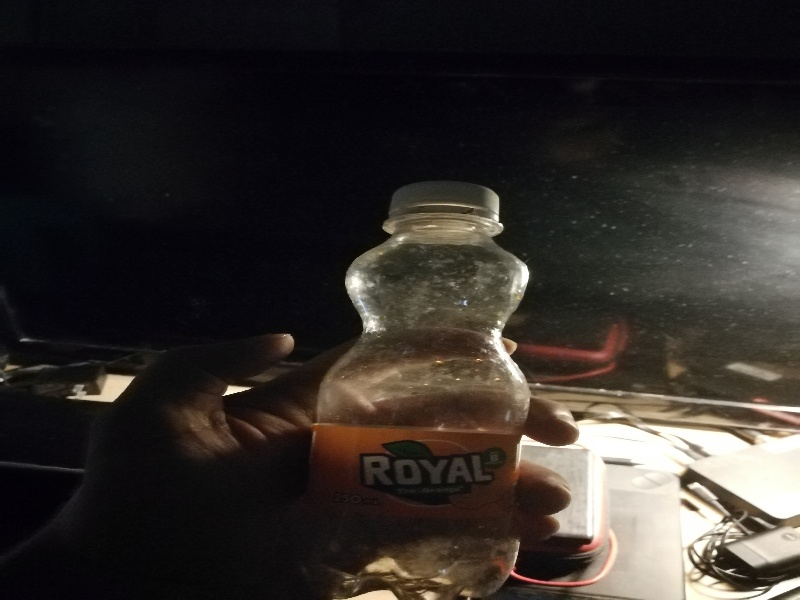PET #1: (295, 168, 527, 597)
